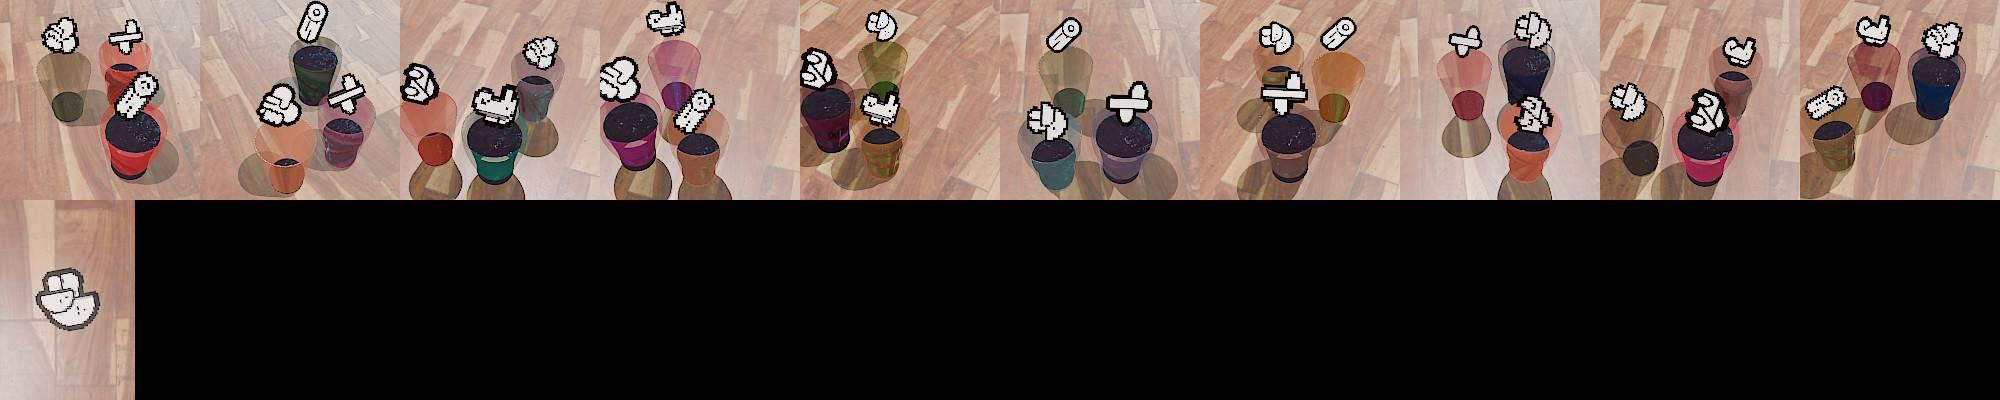icon: (34, 268, 102, 334), (1260, 68, 1309, 115), (115, 70, 159, 120), (1103, 80, 1152, 124), (256, 83, 302, 127), (1685, 87, 1728, 134), (471, 83, 520, 124), (597, 56, 640, 101), (673, 88, 714, 134), (325, 71, 367, 115), (798, 46, 838, 90), (1027, 99, 1069, 140), (1511, 94, 1555, 134), (401, 62, 440, 104), (1804, 84, 1848, 120), (645, 0, 686, 38), (1608, 80, 1647, 121), (858, 89, 901, 126), (41, 17, 79, 56), (1922, 22, 1963, 59), (1513, 10, 1551, 48), (106, 19, 145, 56), (296, 1, 329, 45), (520, 34, 560, 70), (1046, 17, 1082, 54), (1320, 17, 1357, 52), (1855, 14, 1892, 47), (1448, 24, 1483, 57), (865, 9, 899, 42), (1259, 20, 1293, 54), (1721, 36, 1758, 66)
